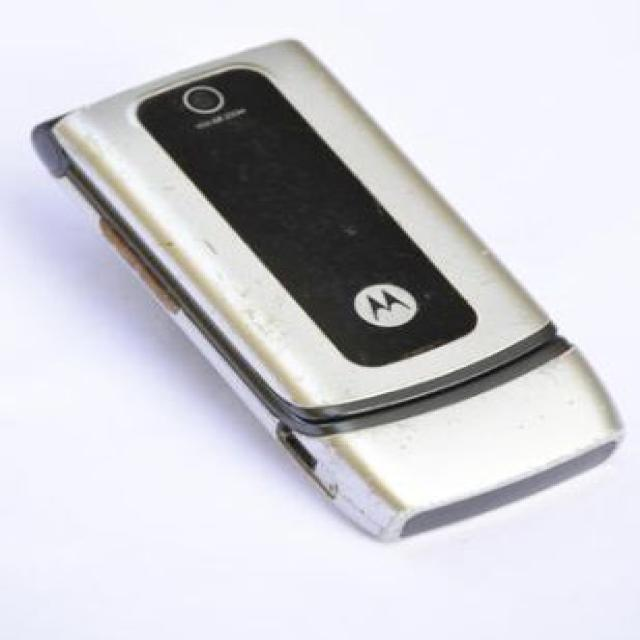electronic: (29, 35, 625, 541)
